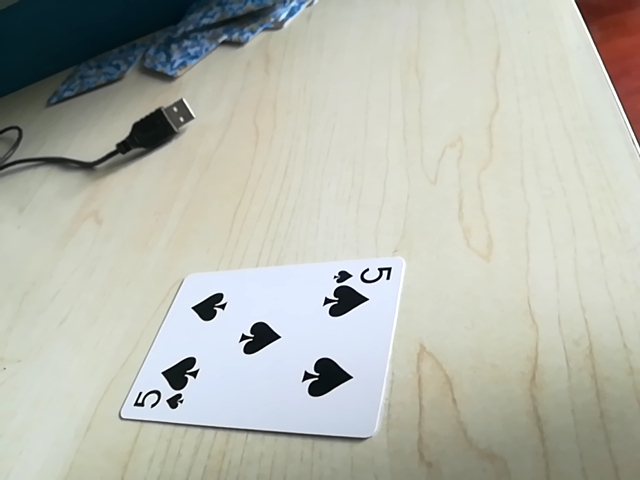ht 5: (124, 384, 193, 416), (330, 260, 397, 291)
